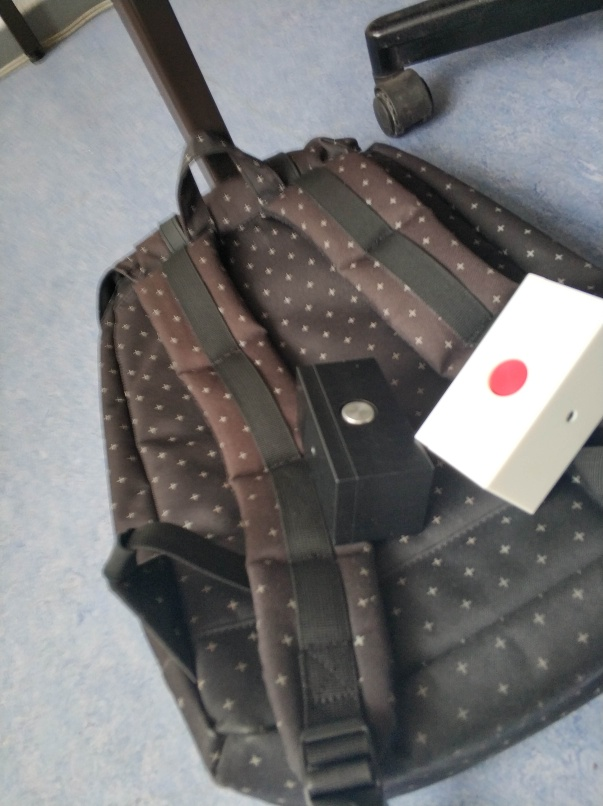black+black+silver: (294, 357, 438, 546)
white+white+red: (407, 270, 602, 517)
